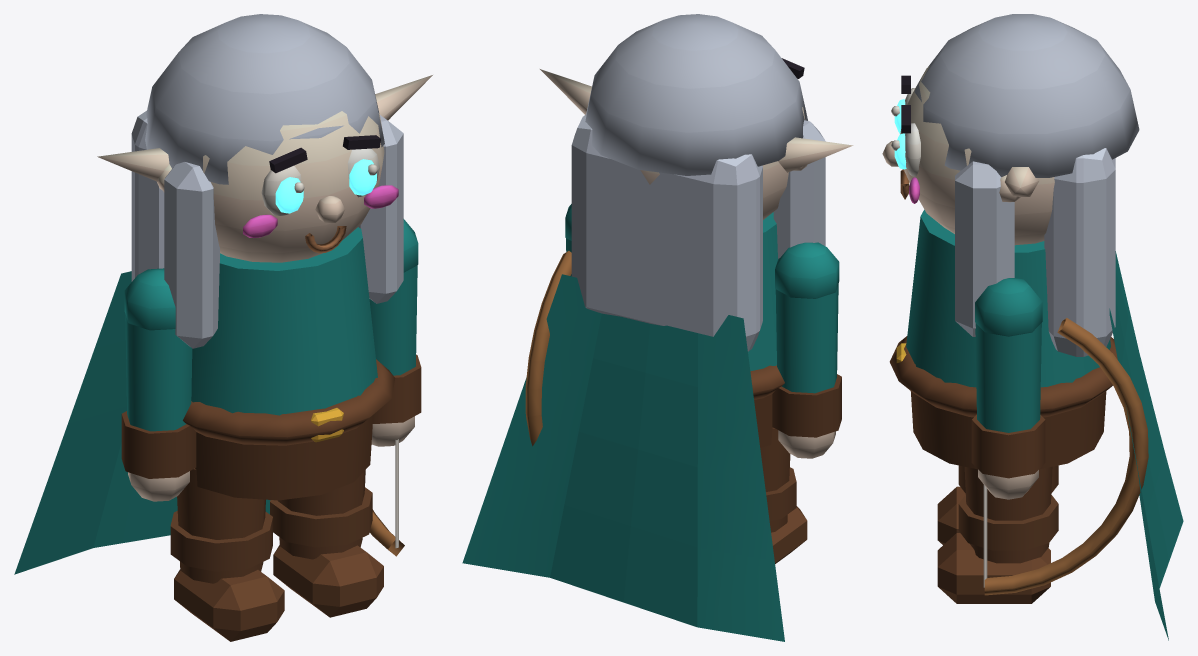
File: hero_elowen.glb
The picture shows the model from 3 angles, left to right: view 1: azimuth 30°, elevation 25°; view 2: azimuth 150°, elevation 25°; view 3: azimuth 270°, elevation 25°; orthographic projection. The views are drawn at different scales.
Visible parts, largest first — view 1: body_t0_palette, arml_t0_palette, legl_t0_palette, legr_t0_palette, armr_t0_palette, body_t0_crystal; view 2: body_t0_palette, arml_t0_palette, legl_t0_palette, armr_t0_palette; view 3: body_t0_palette, armr_t0_palette, legr_t0_palette, legl_t0_palette, body_t0_crystal.
Boxes of the visible parts, x1,y1,x2,y2 form: body_t0_palette: (14, 14, 432, 574); arml_t0_palette: (121, 268, 196, 501); legl_t0_palette: (170, 468, 284, 641); legr_t0_palette: (270, 470, 383, 617); armr_t0_palette: (369, 219, 421, 556); body_t0_crystal: (275, 159, 376, 213); body_t0_palette: (462, 14, 853, 641); arml_t0_palette: (772, 242, 841, 458); legl_t0_palette: (760, 428, 807, 563); armr_t0_palette: (525, 204, 571, 446); body_t0_palette: (882, 14, 1183, 640); armr_t0_palette: (971, 278, 1148, 595); legr_t0_palette: (937, 466, 1058, 603); legl_t0_palette: (937, 465, 1058, 544); body_t0_crystal: (894, 99, 906, 169).
Bounding box in the file's own units: 0.32 × 0.508 × 0.253.
